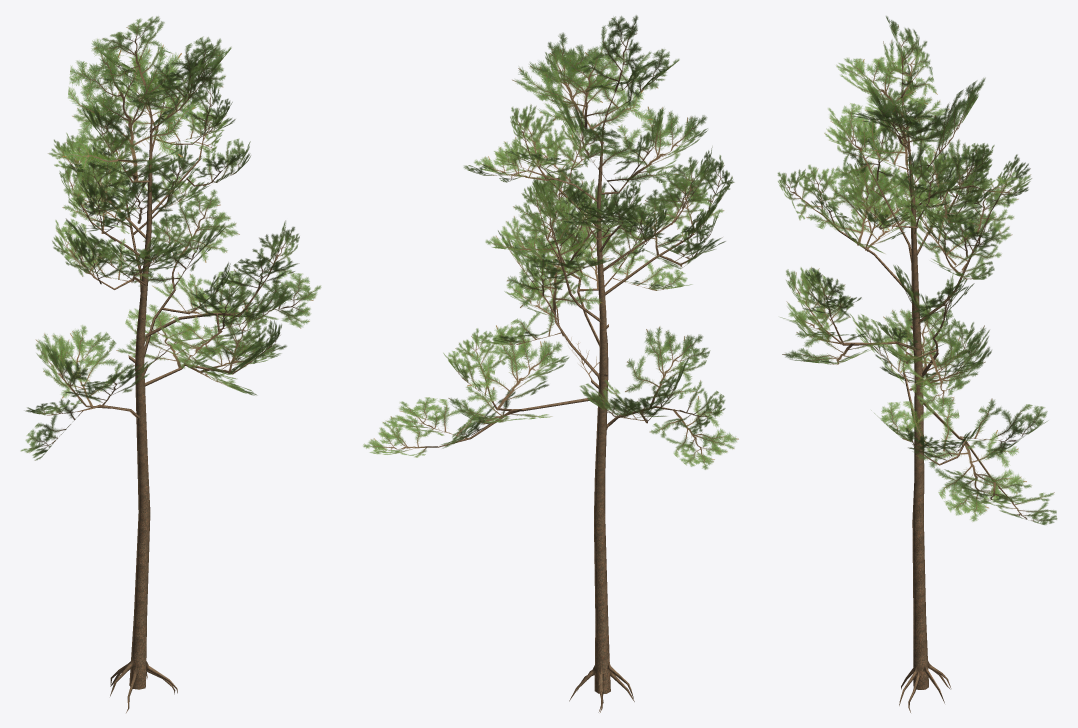
Rendered from pine-medium_1-lod2.gltf.
3 renders of one model, left to right at view 1: azimuth 30°, elevation 25°; view 2: azimuth 150°, elevation 25°; view 3: azimuth 270°, elevation 25°, orthographic. The views are drawn at different scales.
Parts seen in each view (by area): view 1: Pine_medium_1_LOD2_Clusters_Mat_0, Pine_medium_1_LOD2_Bark_Mat_0; view 2: Pine_medium_1_LOD2_Clusters_Mat_0, Pine_medium_1_LOD2_Bark_Mat_0; view 3: Pine_medium_1_LOD2_Clusters_Mat_0, Pine_medium_1_LOD2_Bark_Mat_0.
Boxes of the visible parts, box(x1,y1,x2,y2) form: Pine_medium_1_LOD2_Clusters_Mat_0: box(21, 16, 321, 460); Pine_medium_1_LOD2_Bark_Mat_0: box(78, 84, 267, 712); Pine_medium_1_LOD2_Clusters_Mat_0: box(363, 15, 738, 469); Pine_medium_1_LOD2_Bark_Mat_0: box(437, 93, 701, 712); Pine_medium_1_LOD2_Clusters_Mat_0: box(777, 16, 1057, 524); Pine_medium_1_LOD2_Bark_Mat_0: box(813, 95, 1009, 712).
Bounding box in the file's own units: 6.38 × 13.92 × 5.44.
2 materials, 2 textured.
